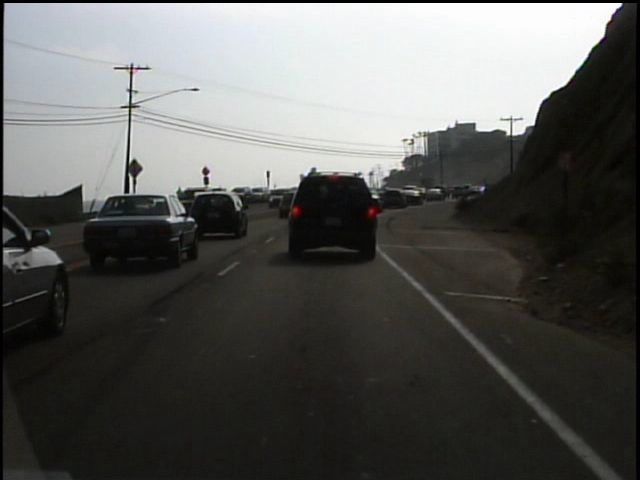person: (173, 183, 187, 212)
